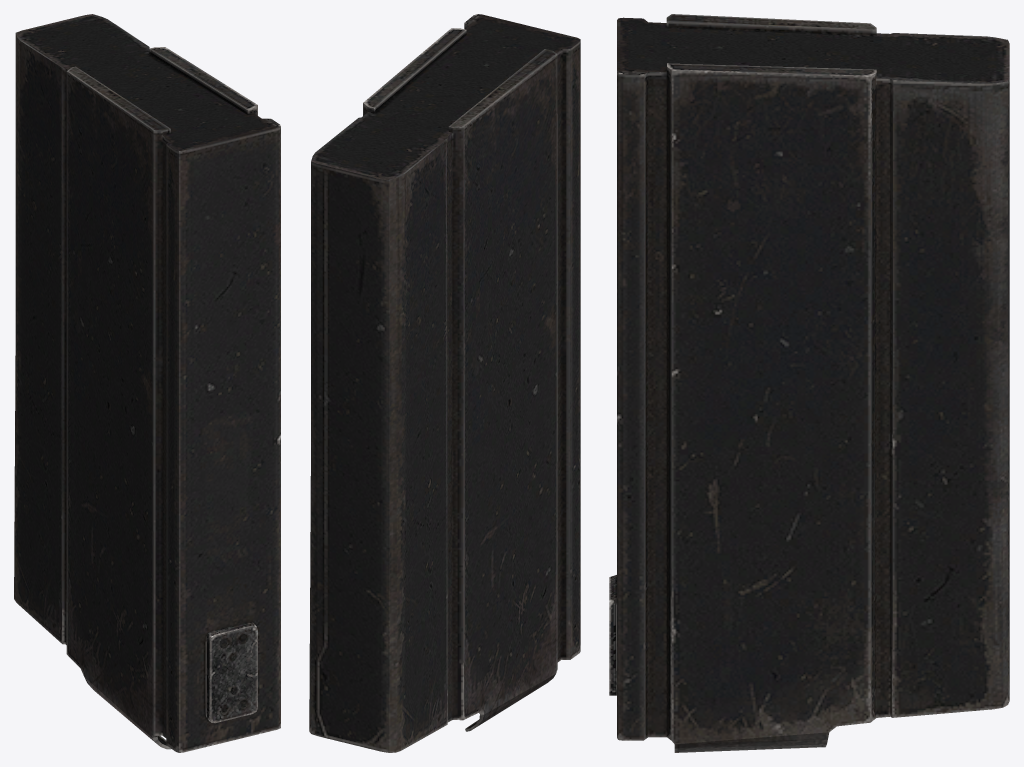
3 views of the same model, side by side, from view 1: azimuth 30°, elevation 25°; view 2: azimuth 150°, elevation 25°; view 3: azimuth 270°, elevation 25° (orthographic). The views are drawn at different scales.
Visible parts, largest first — view 1: TW_5aaf8a0be5b5b00015693243_PZ_Import; view 2: TW_5aaf8a0be5b5b00015693243_PZ_Import; view 3: TW_5aaf8a0be5b5b00015693243_PZ_Import.
Boxes of the visible parts, x1,y1,x2,y2 form: TW_5aaf8a0be5b5b00015693243_PZ_Import: (14,14,280,752); TW_5aaf8a0be5b5b00015693243_PZ_Import: (309,14,580,752); TW_5aaf8a0be5b5b00015693243_PZ_Import: (609,14,1009,752).
Bounding box in the file's own units: 0.0146 × 0.0438 × 0.0836.
Materials: 1 (1 with a texture image).
